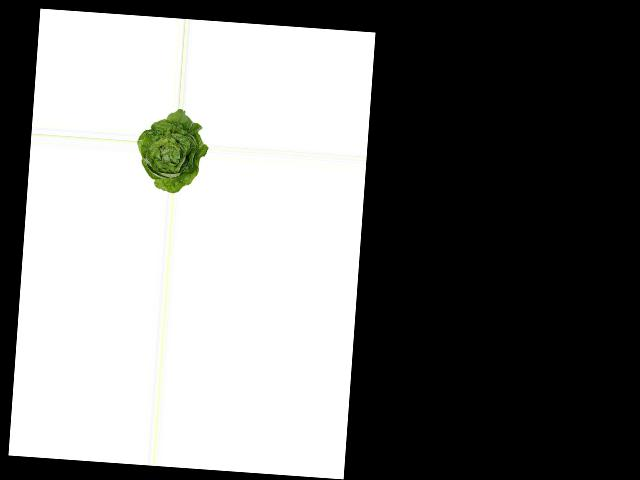lettuce: (134, 108, 210, 195)
